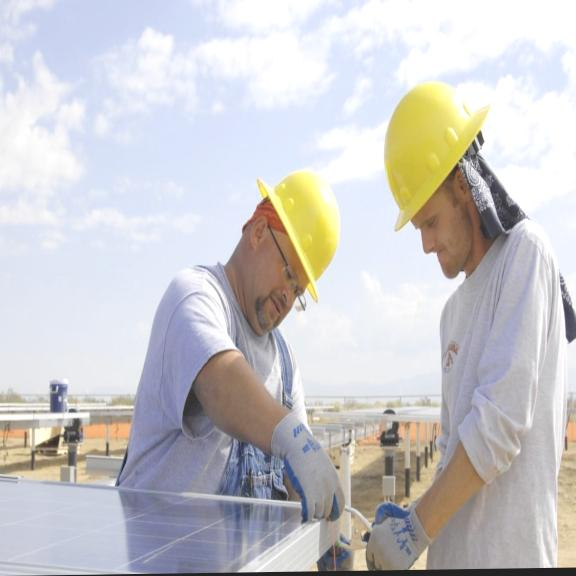no_safety_vest: (422, 218, 573, 496), (125, 260, 309, 487)
